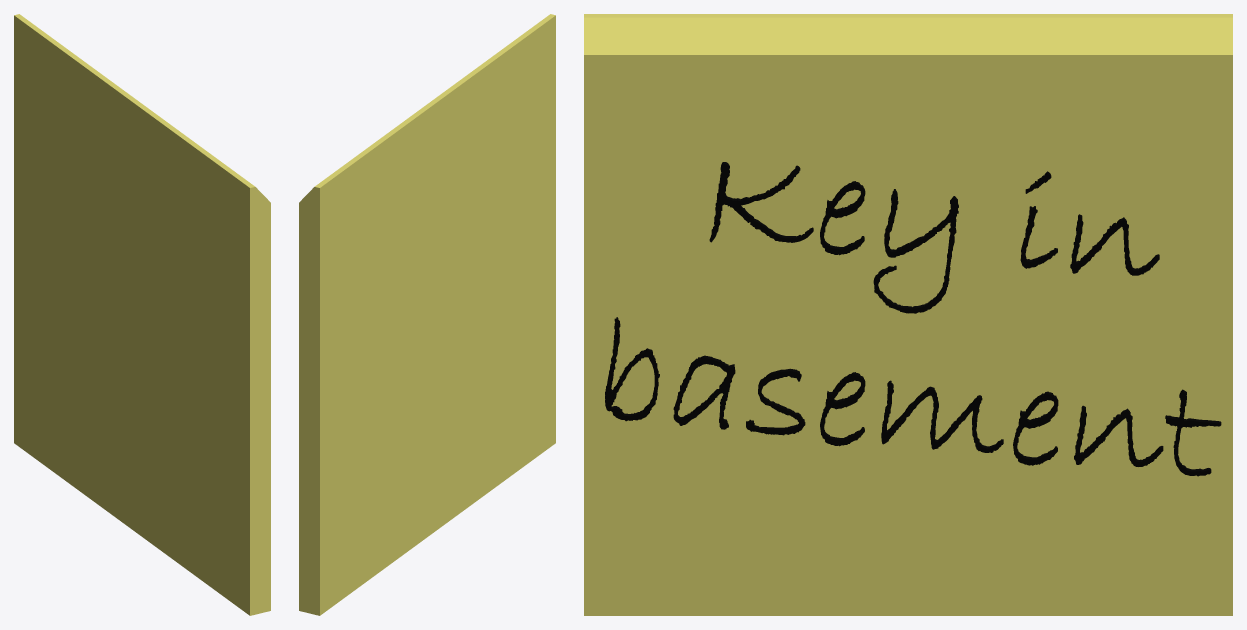
File: note.glb
3 renders of one model, left to right at view 1: azimuth 30°, elevation 25°; view 2: azimuth 150°, elevation 25°; view 3: azimuth 270°, elevation 25°, orthographic. The views are drawn at different scales.
Parts seen in each view (by area): view 1: Note; view 2: Note; view 3: Note, Text.
Part boxes in pixels (x1,y1,x2,y2): Note: (14, 14, 270, 615); Note: (299, 14, 555, 615); Note: (584, 14, 1232, 615); Text: (605, 162, 1221, 476).
Size of the model in its own units: 0.1187 by 2 by 2.
